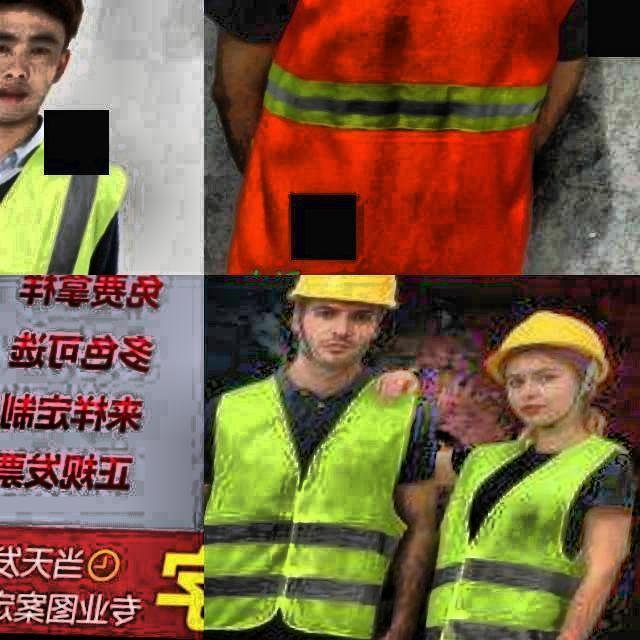safety_jacket: (248, 0, 603, 275), (204, 361, 428, 640), (422, 434, 612, 640), (0, 118, 120, 275)
